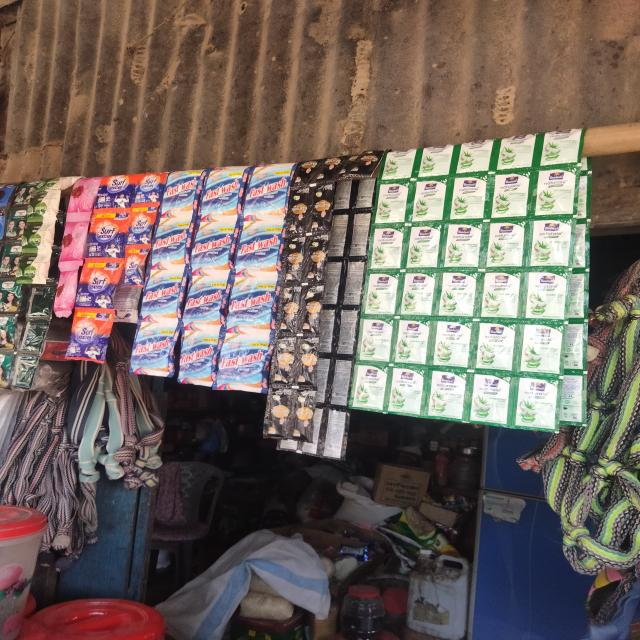non-ubl: (218, 338, 270, 392), (519, 322, 566, 375), (533, 168, 578, 223), (514, 377, 558, 432), (132, 323, 176, 377), (227, 279, 269, 334), (524, 271, 569, 321), (426, 369, 468, 422), (479, 271, 523, 321), (474, 321, 518, 370), (529, 216, 573, 264), (432, 318, 474, 368), (437, 271, 479, 320), (385, 366, 426, 416), (238, 224, 278, 275), (536, 126, 584, 168), (392, 316, 432, 366), (198, 171, 238, 221), (471, 370, 508, 424), (371, 179, 413, 226), (492, 171, 532, 220), (185, 276, 222, 328), (447, 176, 488, 222), (368, 223, 408, 270), (486, 221, 527, 266), (444, 222, 484, 268), (153, 223, 189, 274), (163, 169, 199, 220), (348, 364, 388, 409), (355, 318, 395, 363), (246, 170, 284, 217), (363, 272, 402, 317), (142, 276, 181, 321), (179, 334, 212, 386), (405, 224, 443, 268), (412, 177, 450, 221), (194, 227, 228, 276), (496, 134, 538, 168), (453, 139, 496, 172), (403, 271, 434, 316), (416, 144, 457, 177), (561, 322, 586, 372), (16, 253, 46, 285), (22, 221, 52, 252), (26, 191, 58, 219), (386, 150, 414, 180)
ubl: (78, 262, 119, 313), (87, 212, 123, 262), (70, 314, 108, 359), (288, 390, 314, 442), (301, 237, 328, 286), (270, 338, 295, 388), (300, 287, 323, 338), (296, 338, 319, 388), (278, 288, 300, 339), (100, 178, 132, 212), (265, 390, 286, 441), (310, 188, 332, 235), (310, 158, 343, 188), (287, 189, 309, 234), (127, 213, 153, 250), (285, 238, 304, 285), (134, 174, 160, 207), (354, 150, 378, 180), (301, 160, 315, 184)
